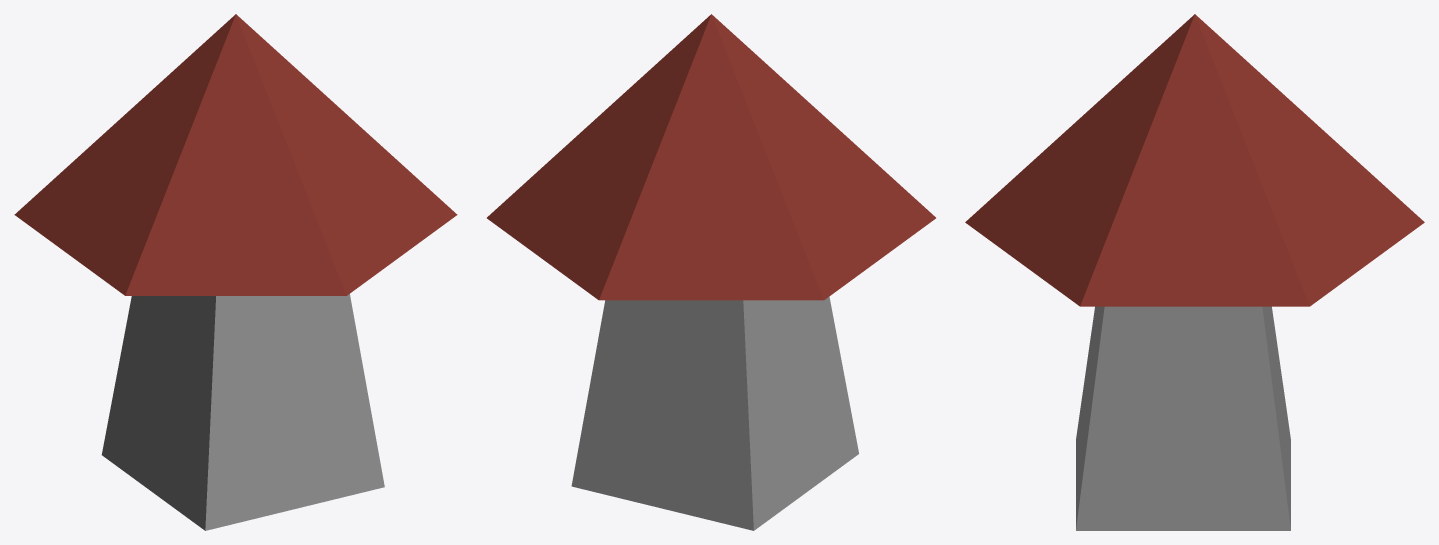
The model's file is Mushroom_Red_01.obj.
3 views of the same model, side by side, from view 1: azimuth 30°, elevation 25°; view 2: azimuth 150°, elevation 25°; view 3: azimuth 270°, elevation 25° (orthographic). The views are drawn at different scales.
Visible parts, largest first — view 1: Mesh1_Mushroom_Red_Model; view 2: Mesh1_Mushroom_Red_Model; view 3: Mesh1_Mushroom_Red_Model.
Part boxes in pixels (x1=…): Mesh1_Mushroom_Red_Model: x1=14, y1=14, x2=457, y2=530; Mesh1_Mushroom_Red_Model: x1=487, y1=14, x2=935, y2=530; Mesh1_Mushroom_Red_Model: x1=965, y1=14, x2=1424, y2=530.
Size of the model in its own units: 0.4349 by 0.567 by 0.5022.
